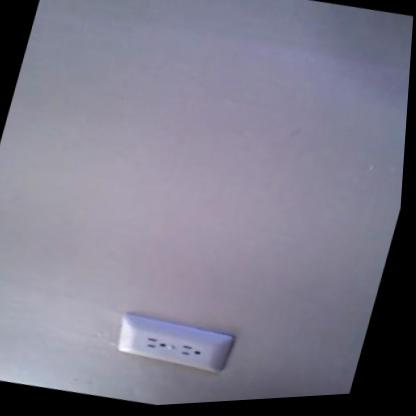OUTLET: (112, 306, 236, 378)
